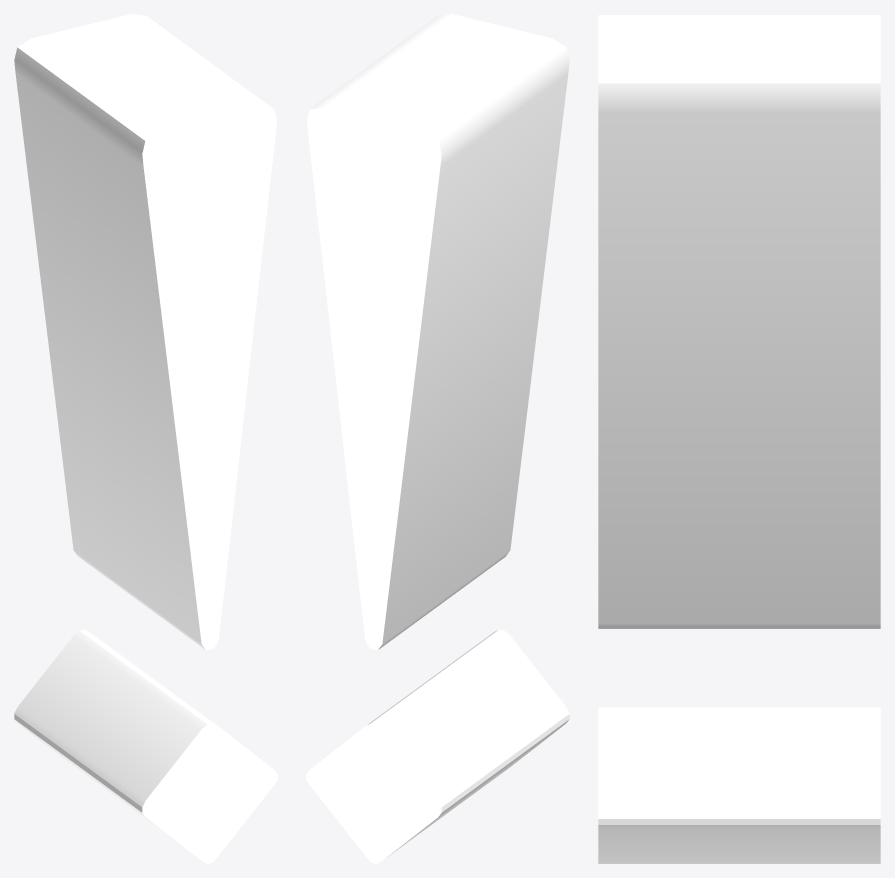
3 renders of one model, left to right at view 1: azimuth 30°, elevation 25°; view 2: azimuth 150°, elevation 25°; view 3: azimuth 270°, elevation 25°, orthographic. The views are drawn at different scales.
Parts seen in each view (by area): view 1: !_Soul_White; view 2: !_Soul_White; view 3: !_Soul_White.
Boxes of the visible parts, <box> form: !_Soul_White: <box>14,14,277,863</box>; !_Soul_White: <box>306,14,569,863</box>; !_Soul_White: <box>598,14,880,863</box>.
Size of what is drawn, in the model's own units: 0.0275 by 0.1442 by 0.045.
2 materials, 2 textured.
